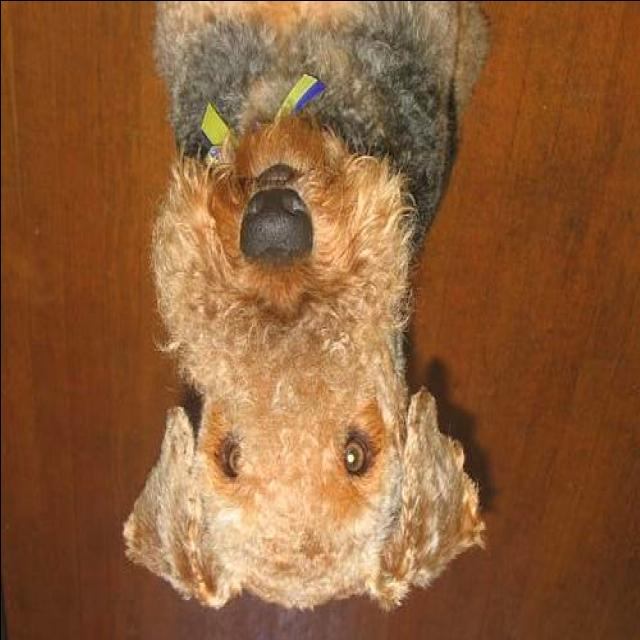airedale: (118, 5, 486, 613)
